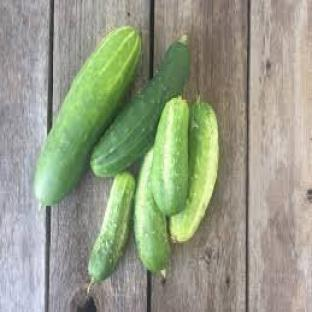Cucumber: (34, 26, 140, 205), (91, 37, 190, 176), (170, 103, 219, 241), (88, 173, 134, 283), (151, 97, 189, 215), (134, 150, 169, 273)
